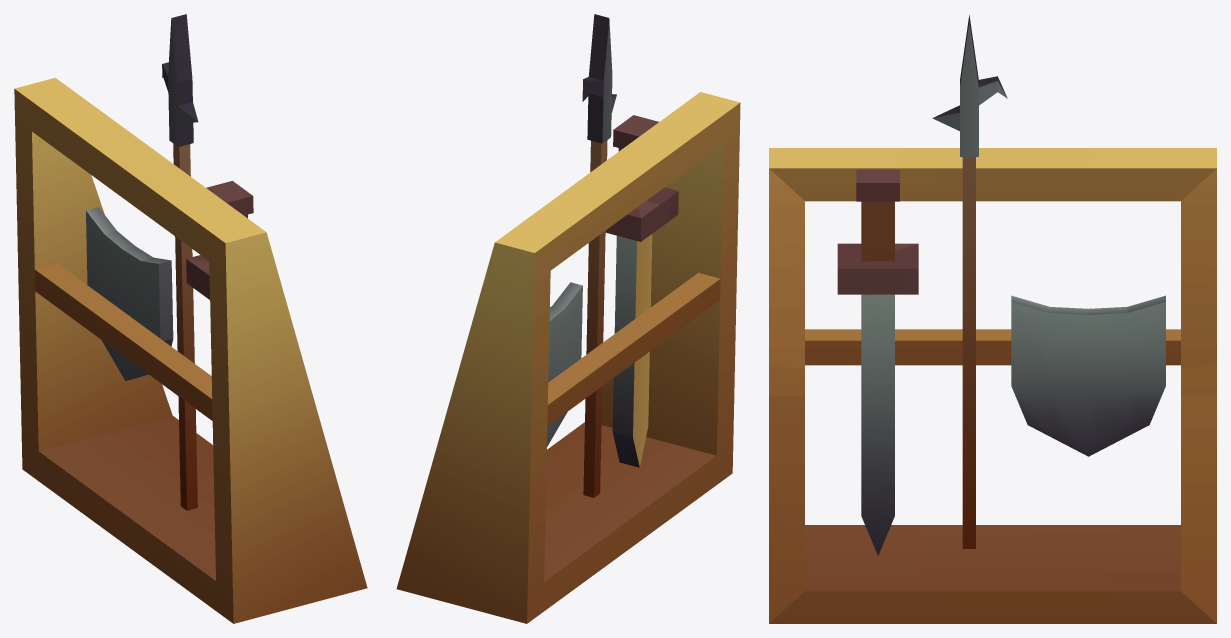
Rendered from WeaponRack.fbx.
3 renders of one model, left to right at view 1: azimuth 30°, elevation 25°; view 2: azimuth 150°, elevation 25°; view 3: azimuth 270°, elevation 25°, orthographic. The views are drawn at different scales.
Parts seen in each view (by area): view 1: WeaponRack, Shield, Lance, Sword; view 2: WeaponRack, Sword, Lance, Shield; view 3: WeaponRack, Shield, Sword, Lance.
Part boxes in pixels (<box>): WeaponRack: <box>14,77,367,623</box>; Shield: <box>86,207,173,380</box>; Lance: <box>162,14,198,510</box>; Sword: <box>186,181,253,299</box>; WeaponRack: <box>396,92,740,623</box>; Sword: <box>605,115,678,467</box>; Lance: <box>582,14,616,497</box>; Shield: <box>547,282,582,446</box>; WeaponRack: <box>769,148,1216,623</box>; Shield: <box>1011,295,1165,456</box>; Sword: <box>837,169,918,555</box>; Lance: <box>932,15,1007,548</box>.
Bounding box in the file's own units: 32.76 × 117 × 84.37.
